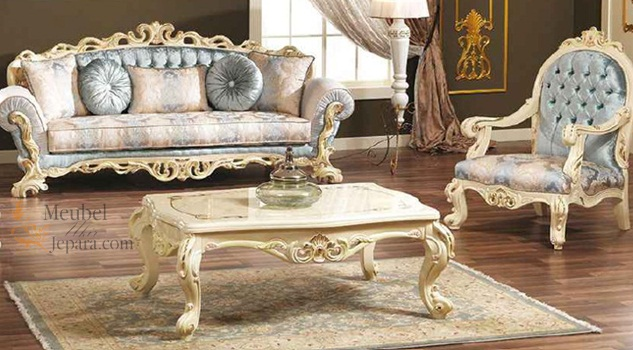Carving Chair: (11, 27, 351, 185), (458, 31, 633, 262)
Carving Table: (121, 189, 454, 328)
